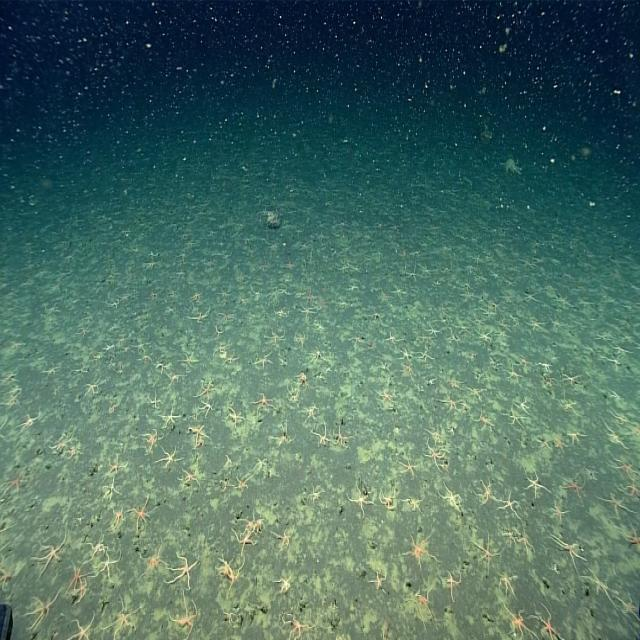brittle-stars: (20, 521, 76, 576), (17, 577, 64, 640), (95, 590, 149, 640), (396, 522, 438, 578), (160, 547, 209, 593), (550, 529, 596, 577), (264, 602, 322, 640), (163, 592, 208, 640), (437, 472, 473, 529), (582, 560, 624, 608), (132, 535, 177, 579), (529, 599, 577, 640), (471, 523, 503, 582), (404, 581, 442, 630), (210, 549, 247, 597), (61, 603, 106, 640), (89, 545, 130, 585), (491, 533, 541, 565), (434, 556, 467, 604), (559, 463, 596, 505), (233, 506, 266, 553), (495, 600, 533, 640), (344, 477, 376, 524), (589, 492, 632, 525), (518, 462, 552, 503), (125, 492, 158, 534), (65, 556, 91, 604), (396, 485, 427, 525), (470, 471, 500, 512), (419, 441, 454, 476), (156, 438, 183, 483), (612, 587, 640, 630), (270, 519, 302, 556), (0, 466, 31, 504), (179, 459, 209, 496), (550, 366, 589, 393), (104, 442, 133, 478), (494, 564, 520, 604), (392, 453, 423, 486), (500, 484, 526, 521), (13, 405, 44, 436), (372, 482, 400, 516), (272, 567, 298, 603), (188, 416, 213, 452), (247, 384, 276, 415), (466, 410, 497, 439), (546, 497, 574, 529), (0, 557, 19, 603), (559, 392, 588, 422), (269, 420, 297, 451), (609, 453, 640, 481), (362, 562, 389, 594), (598, 427, 630, 454), (565, 421, 591, 454), (221, 404, 249, 434), (250, 342, 274, 377), (81, 372, 108, 403), (141, 419, 163, 457), (606, 406, 638, 432), (162, 399, 185, 435), (304, 419, 329, 452), (374, 386, 400, 417), (591, 354, 623, 379), (438, 394, 467, 421), (47, 428, 73, 457), (101, 474, 123, 508), (86, 530, 108, 563), (373, 354, 397, 384), (172, 350, 204, 372), (328, 423, 353, 451), (619, 521, 640, 554), (499, 364, 524, 391), (302, 346, 330, 370), (3, 383, 22, 418), (196, 373, 221, 399), (501, 408, 525, 435), (282, 381, 304, 409), (38, 360, 62, 385), (303, 480, 323, 510), (220, 600, 242, 627), (234, 469, 256, 496), (426, 419, 448, 446), (104, 505, 128, 529), (534, 354, 559, 377), (404, 256, 423, 285), (270, 277, 292, 302), (194, 397, 222, 416), (210, 336, 232, 360), (293, 366, 318, 387), (67, 322, 93, 342), (184, 308, 210, 328), (421, 321, 444, 343), (532, 430, 556, 451), (213, 308, 242, 325), (162, 370, 184, 392), (184, 285, 206, 307), (367, 309, 390, 330), (381, 327, 404, 348), (249, 450, 269, 474), (460, 383, 490, 399), (516, 396, 540, 416), (621, 478, 640, 503), (478, 323, 497, 348), (294, 302, 320, 320), (416, 341, 434, 367), (374, 282, 392, 308), (136, 348, 156, 371), (273, 300, 292, 324), (456, 284, 475, 308), (161, 298, 179, 323), (524, 314, 544, 336), (291, 280, 309, 304), (103, 295, 122, 317), (267, 327, 286, 349), (302, 400, 321, 422), (342, 276, 361, 297), (292, 329, 310, 351), (336, 296, 358, 314), (132, 335, 149, 358), (344, 332, 367, 349), (146, 387, 160, 414), (555, 429, 569, 456), (222, 447, 237, 472), (156, 354, 173, 376), (397, 344, 414, 365), (445, 372, 462, 393), (388, 280, 408, 297), (170, 265, 188, 283), (309, 318, 328, 335), (400, 365, 416, 383), (216, 288, 235, 303), (225, 350, 239, 370), (281, 257, 295, 274)
